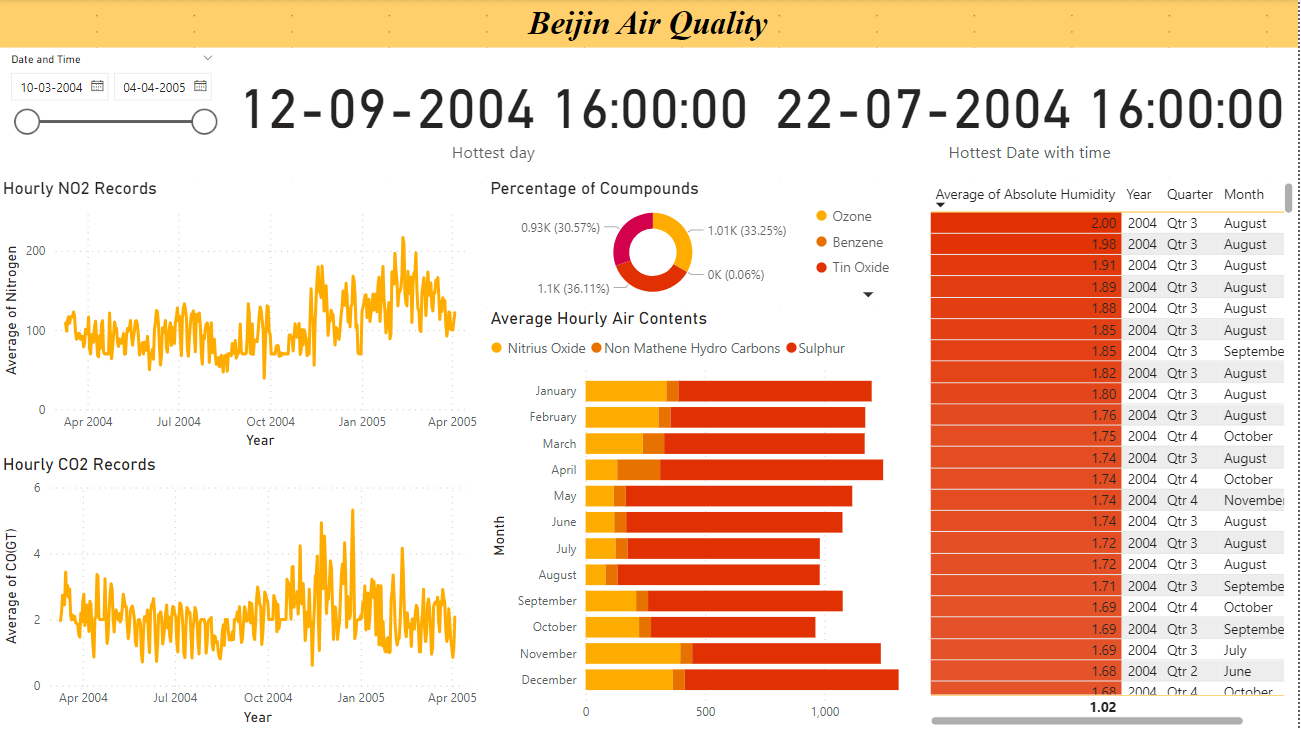

The page's visual inventory and layout, read from the dashboard file:
{"tool":"powerbi","page":{"name":"Page 1","canvas":[1280,720],"ordinal":0},"visuals":[{"type":"textbox","box":[0,0,1280,48],"z":0},{"type":"card","fields":{"Values":["AirQualityUCI.Hottest Date with time"]},"box":[752,48,528,128],"z":1000},{"type":"slicer","fields":{"Values":["AirQualityUCI.Date and Time"]},"box":[0,48,224,128],"z":2000},{"type":"card","fields":{"Values":["AirQualityUCI.Most Humid day"]},"box":[224,48,528,128],"z":3000},{"type":"barChart","title":"Average  Hourly Air Contents","fields":{"Category":["AirQualityUCI.Date and Time.Variation.Date Hierarchy.Month","AirQualityUCI.Date and Time.Variation.Date Hierarchy.Day"],"Y":["Avg(AirQualityUCI.Nitrius Oxide)","Avg(AirQualityUCI.Non Mathene Hydro Carbons)","Avg(AirQualityUCI.Sulphur)"]},"box":[480,304,448,416],"z":4000},{"type":"lineChart","title":"Hourly CO2 Records","fields":{"Y":["Avg(AirQualityUCI.CO(GT))"],"Category":["AirQualityUCI.Date and Time.Variation.Date Hierarchy.Year","AirQualityUCI.Date and Time.Variation.Date Hierarchy.Quarter","AirQualityUCI.Date and Time.Variation.Date Hierarchy.Month","AirQualityUCI.Date and Time.Variation.Date Hierarchy.Day"]},"box":[0,448,480,272],"z":5000},{"type":"lineChart","title":"Hourly NO2 Records","fields":{"Y":["Avg(AirQualityUCI.Nitrogen)"],"Category":["AirQualityUCI.Date and Time.Variation.Date Hierarchy.Year","AirQualityUCI.Date and Time.Variation.Date Hierarchy.Quarter","AirQualityUCI.Date and Time.Variation.Date Hierarchy.Month","AirQualityUCI.Date and Time.Variation.Date Hierarchy.Day"]},"box":[0,176,480,272],"z":6000},{"type":"donutChart","title":"Percentage of Coumpounds","fields":{"Y":["Avg(AirQualityUCI.Ozone)","Avg(AirQualityUCI.Benzene)","Avg(AirQualityUCI.Tin Oxide)","Avg(AirQualityUCI.Indium Oxide)"]},"box":[480,176,432,128],"z":7000},{"type":"tableEx","fields":{"Values":["Avg(AirQualityUCI.Absolute Humidity)","AirQualityUCI.Date and Time.Variation.Date Hierarchy.Year","AirQualityUCI.Date and Time.Variation.Date Hierarchy.Quarter","AirQualityUCI.Date and Time.Variation.Date Hierarchy.Month","AirQualityUCI.Date and Time.Variation.Date Hierarchy.Day"]},"box":[912,176,368,544],"z":8000}]}

Visuals, with their boxes in screenshot pixels (x1, y1, x2, y2), scaled from the page's 1280x720 canvas onto the 1301x729 screenshot:
textbox: 0, 0, 1300, 49
card - AirQualityUCI.Hottest Date with time: 764, 49, 1300, 178
slicer - AirQualityUCI.Date and Time: 0, 49, 228, 178
card - AirQualityUCI.Most Humid day: 228, 49, 764, 178
"Average  Hourly Air Contents" barChart: 488, 308, 943, 728
"Hourly CO2 Records" lineChart: 0, 454, 488, 728
"Hourly NO2 Records" lineChart: 0, 178, 488, 454
"Percentage of Coumpounds" donutChart: 488, 178, 927, 308
tableEx - Avg(AirQualityUCI.Absolute Humidity) x AirQualityUCI.Date and Time.Variation.Date Hierarchy.Year: 927, 178, 1300, 728
